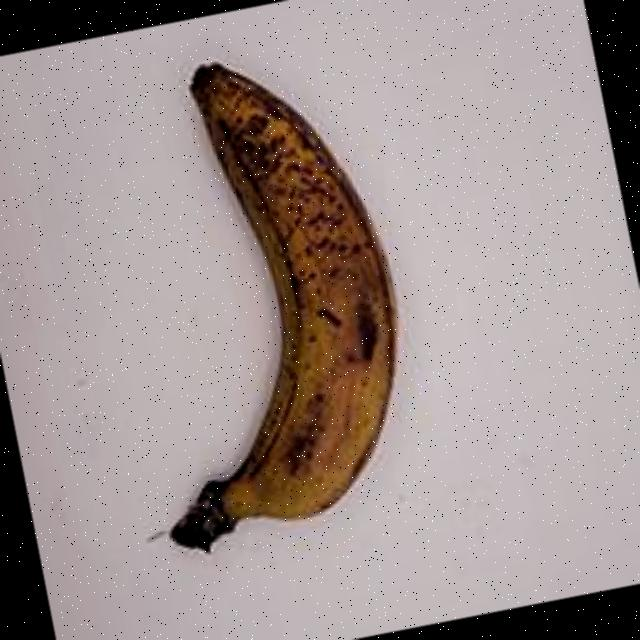Overripe: (47, 16, 460, 597)
